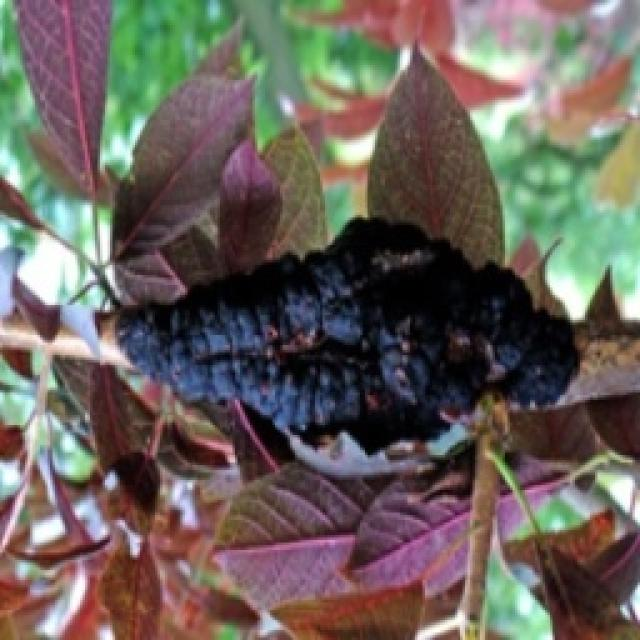Black_knot: (112, 212, 582, 448)
